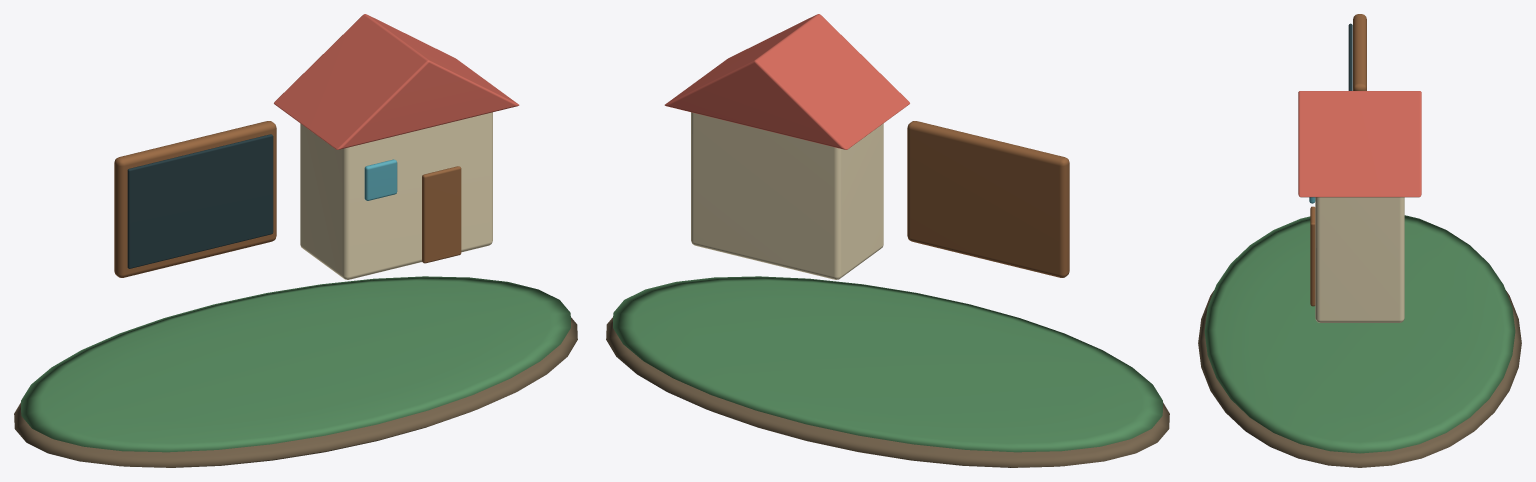
Rendered from teaching-room.glb.
The picture shows the model from 3 angles, left to right: view 1: azimuth 30°, elevation 25°; view 2: azimuth 150°, elevation 25°; view 3: azimuth 270°, elevation 25°; orthographic projection. The views are drawn at different scales.
Visible parts, largest first — view 1: teaching-room_surface_01, teaching-room_surface_04, teaching-room_surface_05, teaching-room_surface_03, teaching-room_surface_00, teaching-room_surface_02, teaching-room_surface_06; view 2: teaching-room_surface_01, teaching-room_surface_04, teaching-room_surface_02, teaching-room_surface_05, teaching-room_surface_00; view 3: teaching-room_surface_01, teaching-room_surface_05, teaching-room_surface_04, teaching-room_surface_00, teaching-room_surface_02.
Part boxes in pixels (bbox=[...]): teaching-room_surface_01: bbox=[21, 276, 570, 452]; teaching-room_surface_04: bbox=[300, 112, 492, 279]; teaching-room_surface_05: bbox=[274, 14, 519, 149]; teaching-room_surface_03: bbox=[127, 134, 273, 268]; teaching-room_surface_00: bbox=[14, 317, 577, 467]; teaching-room_surface_02: bbox=[114, 121, 461, 277]; teaching-room_surface_06: bbox=[364, 159, 397, 200]; teaching-room_surface_01: bbox=[613, 276, 1162, 452]; teaching-room_surface_04: bbox=[691, 112, 883, 279]; teaching-room_surface_02: bbox=[907, 121, 1069, 277]; teaching-room_surface_05: bbox=[664, 14, 909, 149]; teaching-room_surface_00: bbox=[606, 317, 1169, 467]; teaching-room_surface_01: bbox=[1204, 215, 1515, 453]; teaching-room_surface_05: bbox=[1298, 91, 1421, 197]; teaching-room_surface_04: bbox=[1315, 197, 1404, 322]; teaching-room_surface_00: bbox=[1198, 290, 1521, 467]; teaching-room_surface_02: bbox=[1310, 14, 1366, 306].
Size of the model in its own units: 4.56 by 2.67 by 2.5.
